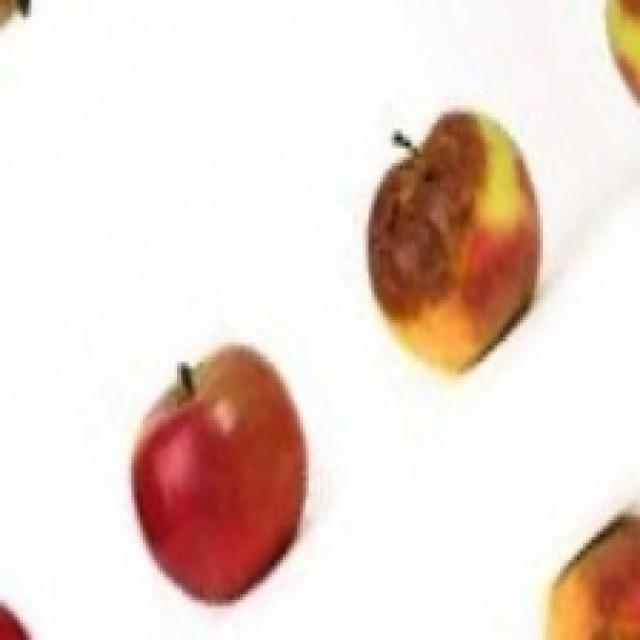100-_ripeness: (118, 342, 318, 611)
rotten_apple: (374, 116, 536, 361)
